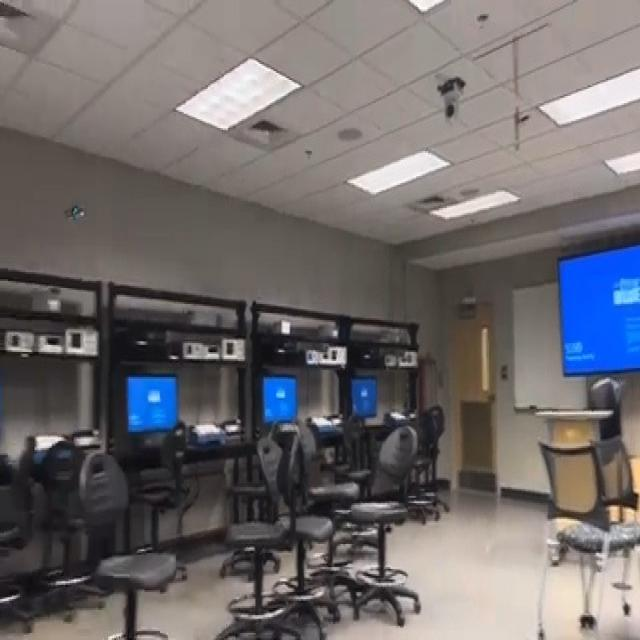drone: (54, 185, 94, 238)
